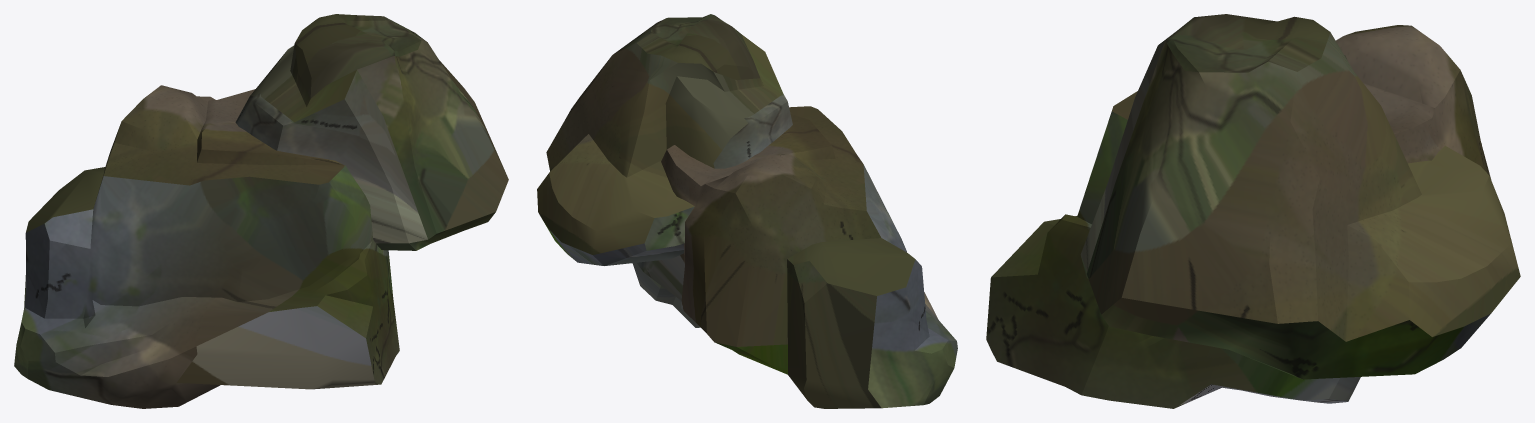
File: rocha-grande-325.glb
The picture shows the model from 3 angles, left to right: view 1: azimuth 30°, elevation 25°; view 2: azimuth 150°, elevation 25°; view 3: azimuth 270°, elevation 25°; orthographic projection. The views are drawn at different scales.
Parts seen in each view (by area): view 1: Rocha_Grande; view 2: Rocha_Grande; view 3: Rocha_Grande.
Part boxes in pixels (x1,y1,x2,y2): Rocha_Grande: (14,14,508,408); Rocha_Grande: (537,14,957,408); Rocha_Grande: (986,14,1520,408).
Bounding box in the file's own units: 4.9 × 3.25 × 3.65.
Materials: 1 (1 with a texture image).
